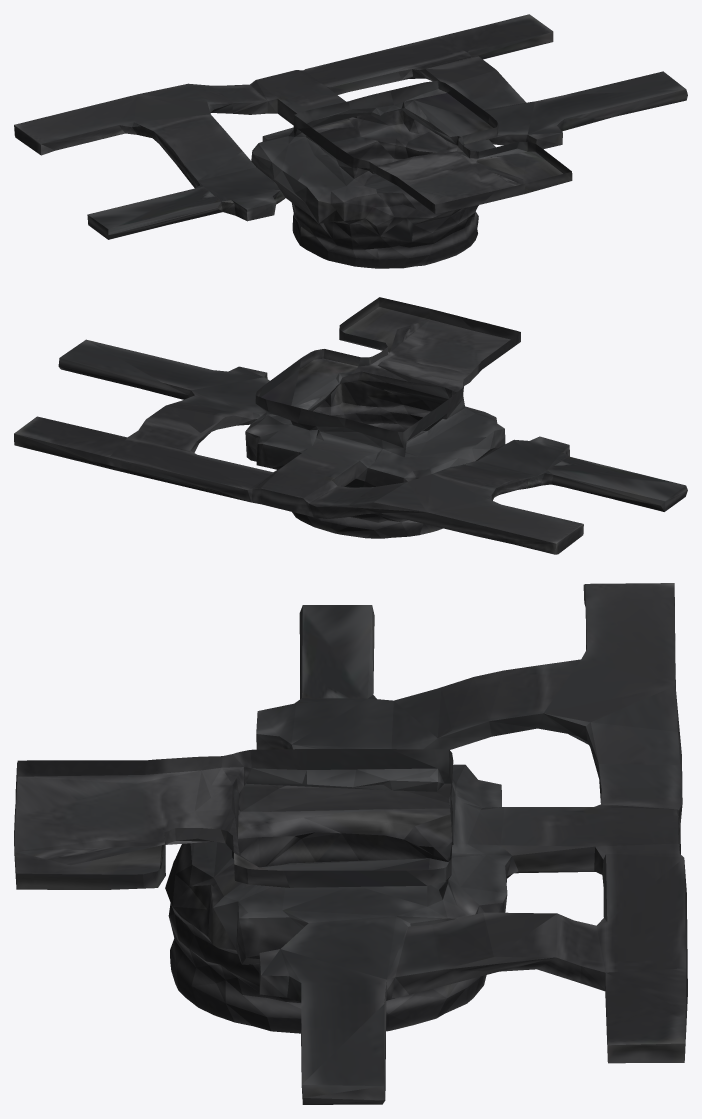
File: ClassicHead.obj
The picture shows the model from 3 angles, top to bottom: view 1: azimuth 30°, elevation 25°; view 2: azimuth 150°, elevation 25°; view 3: azimuth 270°, elevation 25°; orthographic projection. The views are drawn at different scales.
Size of the model in its own units: 43.41 by 7.3 by 25.71.
1 material, 1 textured.
